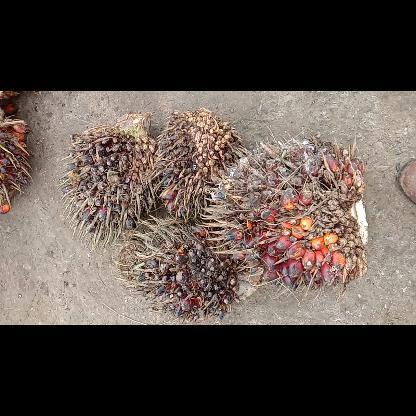TBS abnormal: (116, 218, 260, 316), (66, 110, 156, 242), (156, 108, 240, 218)
TBS masak: (207, 140, 368, 290)
